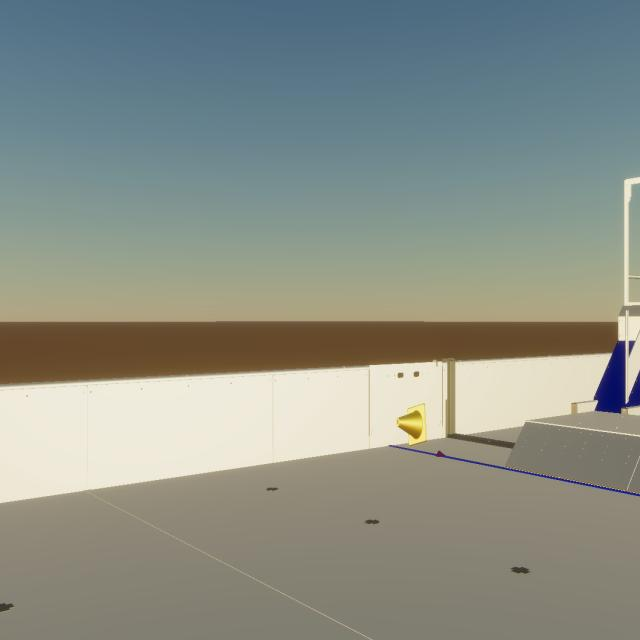frc_cone: (396, 404, 427, 446)
frc_cube: (436, 450, 446, 457)
